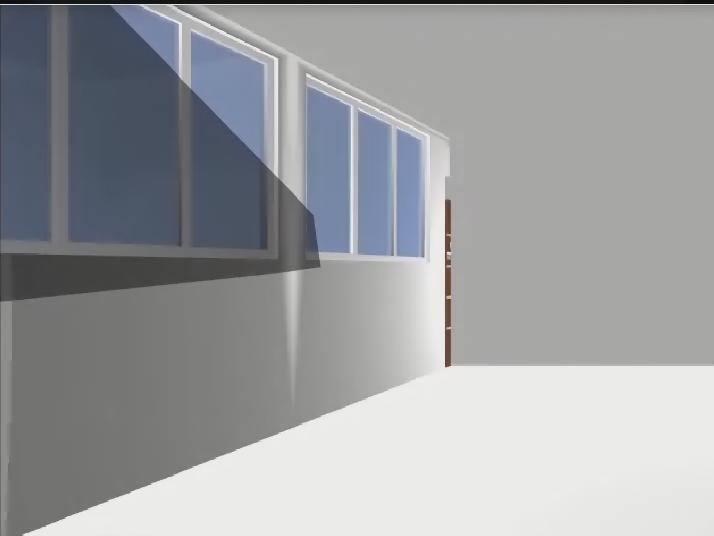door: (445, 199, 452, 368)
